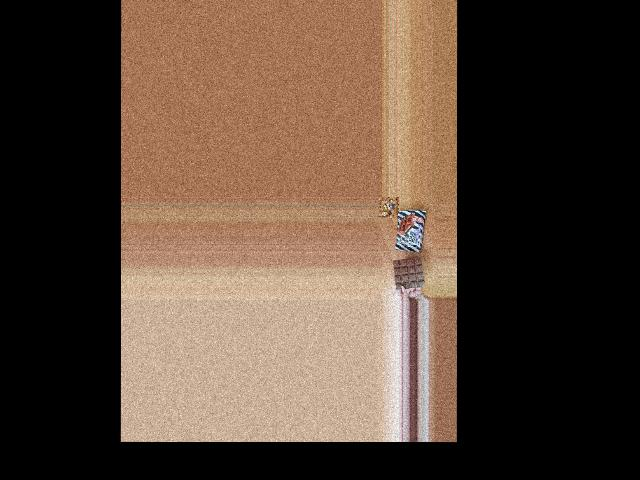chocolate: (396, 207, 425, 253)
